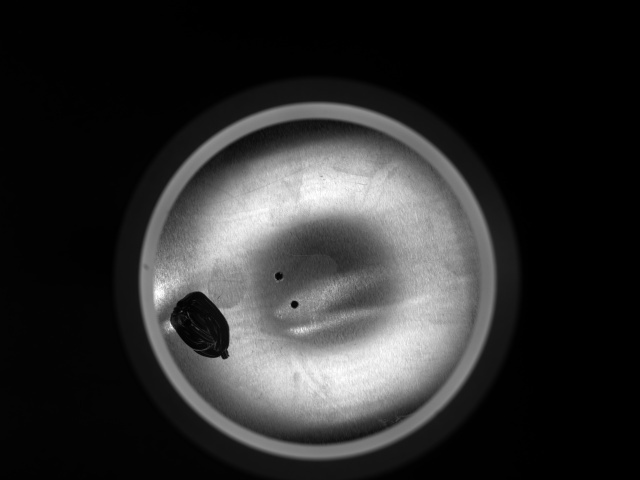zang_wu: (168, 288, 233, 360)
zhen_kong: (273, 269, 285, 282), (288, 300, 300, 308)
